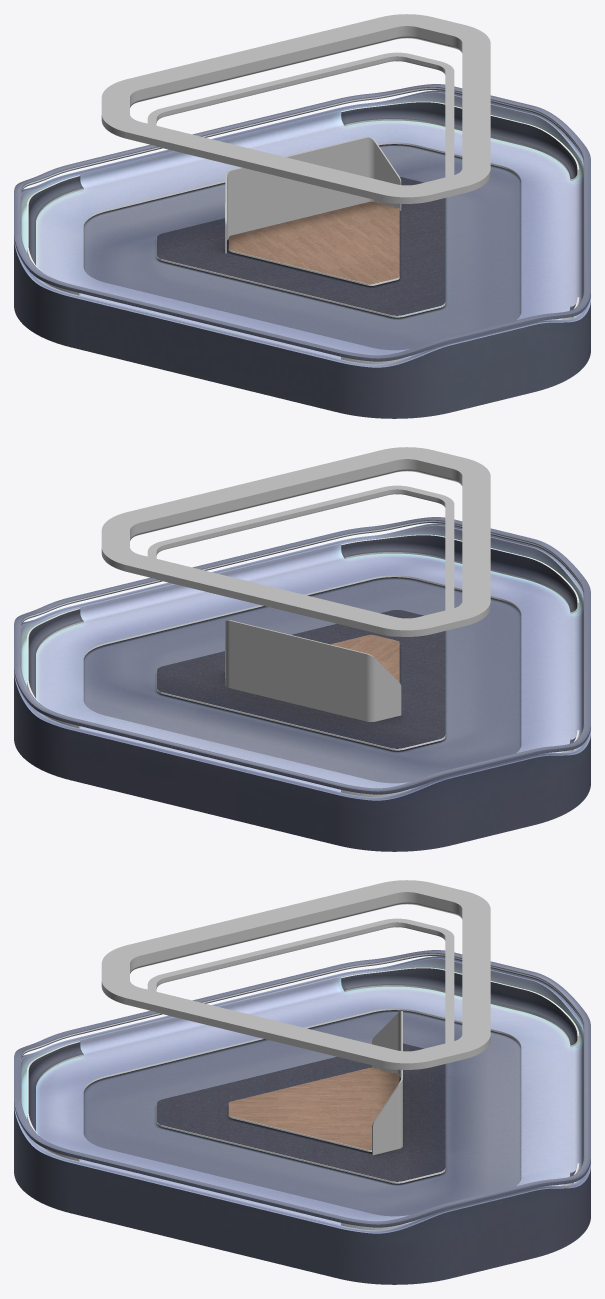
Rendered from environment.gltf.
3 views of the same model, one above another, from view 1: azimuth 30°, elevation 25°; view 2: azimuth 150°, elevation 25°; view 3: azimuth 270°, elevation 25° (orthographic).
Parts seen in each view (by area): view 1: floorBase_geo.002, ceiling_geo.002, backWall_geo; view 2: floorBase_geo.002, ceiling_geo.002, backWall_geo; view 3: floorBase_geo.002, ceiling_geo.002, backWall_geo.
Part boxes in pixels (x1,y1,x2,y2): floorBase_geo.002: (14, 84, 590, 418); ceiling_geo.002: (101, 14, 490, 203); backWall_geo: (225, 136, 401, 253); floorBase_geo.002: (14, 517, 590, 851); ceiling_geo.002: (101, 447, 490, 636); backWall_geo: (225, 620, 401, 721); floorBase_geo.002: (14, 950, 590, 1284); ceiling_geo.002: (101, 880, 490, 1069); backWall_geo: (372, 1011, 402, 1155).
Size of the model in its own units: 17.24 by 5.42 by 15.76.
